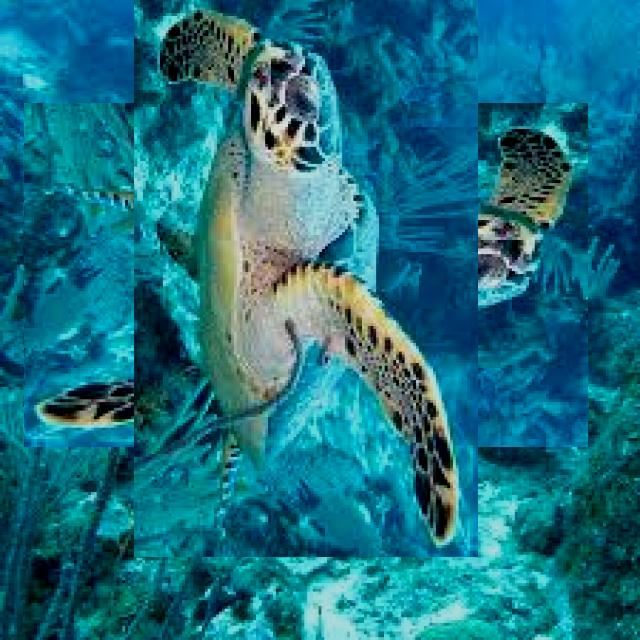Sea turtle: (79, 48, 533, 502)
